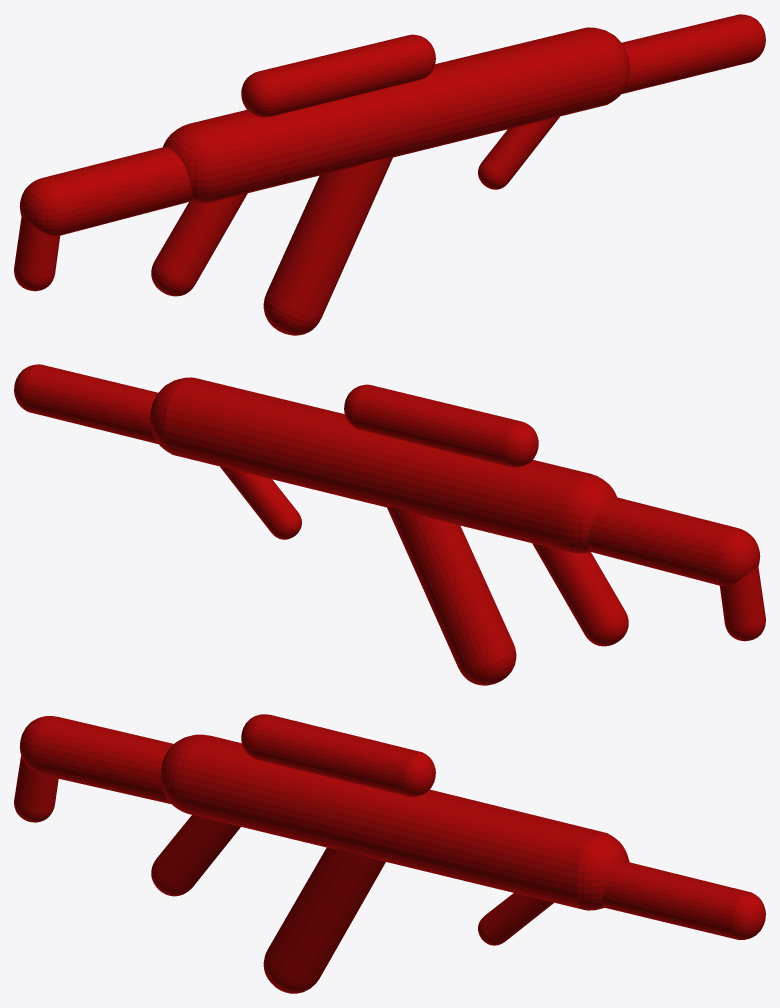
The model's file is LowPolyGunModel.fbx.
3 views of the same model, one above another, from view 1: azimuth 30°, elevation 25°; view 2: azimuth 150°, elevation 25°; view 3: azimuth 330°, elevation 25° (orthographic).
Parts seen in each view (by area): view 1: body, mag, stock, scope, barrel, handle, grip, stock2; view 2: body, mag, stock, scope, barrel, handle, grip, stock2; view 3: body, mag, scope, stock, barrel, handle, grip, stock2.
Boxes of the visible parts, x1,y1,x2,y2 form: body: (163, 27, 630, 203); mag: (263, 157, 392, 335); stock: (19, 147, 192, 235); scope: (241, 34, 435, 117); barrel: (622, 14, 765, 93); handle: (151, 193, 247, 296); grip: (478, 116, 559, 189); stock2: (14, 216, 59, 291); body: (149, 377, 616, 553); mag: (387, 507, 516, 685); stock: (587, 497, 760, 585); scope: (344, 384, 538, 467); barrel: (14, 364, 157, 443); handle: (532, 543, 628, 646); grip: (220, 466, 301, 539); stock2: (720, 566, 765, 641); body: (160, 734, 629, 910); mag: (263, 847, 385, 993); scope: (241, 714, 435, 796); stock: (20, 716, 173, 803); barrel: (602, 861, 765, 939); handle: (151, 815, 240, 896); grip: (478, 893, 553, 945); stock2: (14, 755, 58, 822).
Bounding box in the file's own units: 16.59 × 5.68 × 1.54.
